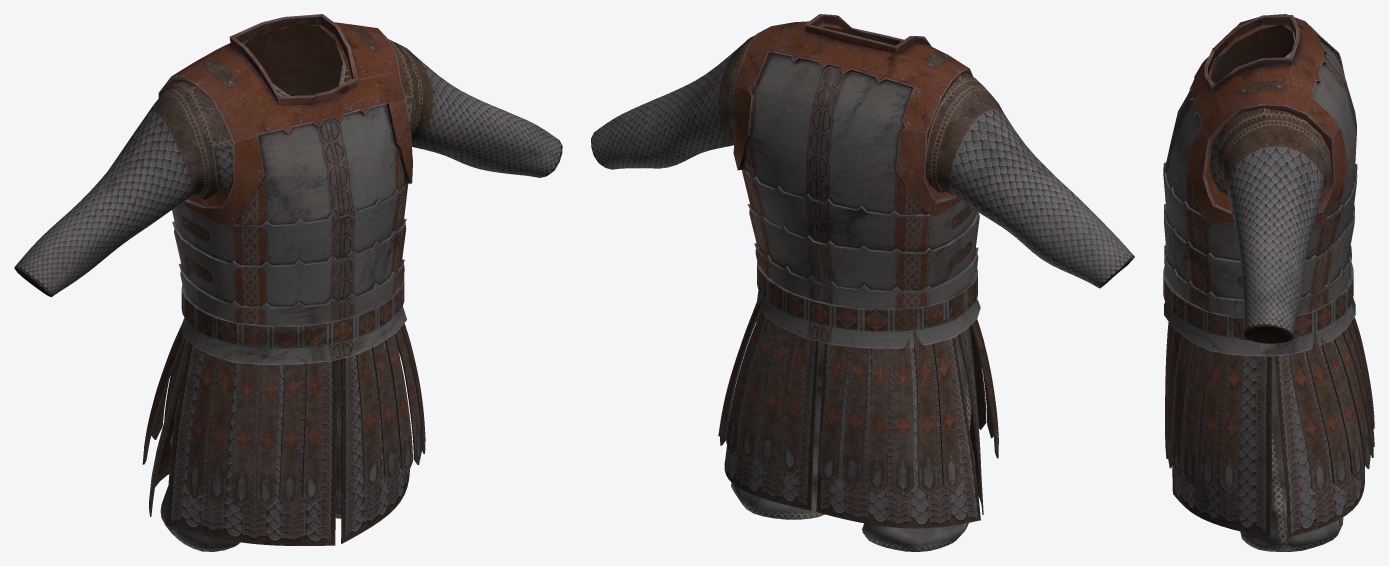
Rendered from sk_dwarf_iron_chest_elite_f.fbx.
3 views of the same model, side by side, from view 1: azimuth 30°, elevation 25°; view 2: azimuth 150°, elevation 25°; view 3: azimuth 270°, elevation 25° (orthographic). The views are drawn at different scales.
Visible parts, largest first — view 1: sk_dwarf_iron_chest_elite_f.0, sk_dwarf_iron_chest_elite_f.2, sk_dwarf_iron_chest_elite_f.1; view 2: sk_dwarf_iron_chest_elite_f.0, sk_dwarf_iron_chest_elite_f.2, sk_dwarf_iron_chest_elite_f.1; view 3: sk_dwarf_iron_chest_elite_f.2, sk_dwarf_iron_chest_elite_f.0, sk_dwarf_iron_chest_elite_f.1.
Boxes of the visible parts, x1,y1,x2,y2 form: sk_dwarf_iron_chest_elite_f.0: (158,14,412,551); sk_dwarf_iron_chest_elite_f.2: (14,25,562,545); sk_dwarf_iron_chest_elite_f.1: (142,275,425,509); sk_dwarf_iron_chest_elite_f.0: (731,14,980,551); sk_dwarf_iron_chest_elite_f.2: (591,26,1134,528); sk_dwarf_iron_chest_elite_f.1: (718,262,998,497); sk_dwarf_iron_chest_elite_f.2: (1172,24,1364,537); sk_dwarf_iron_chest_elite_f.0: (1163,14,1357,551); sk_dwarf_iron_chest_elite_f.1: (1163,262,1374,497).
Size of the model in its own units: 1.17 by 0.4144 by 1.03.
